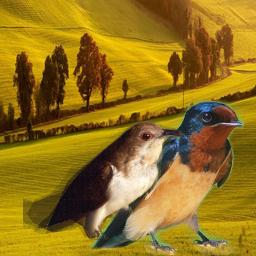Cuckoo: (23, 121, 186, 240)
Swallow: (89, 100, 244, 255)
